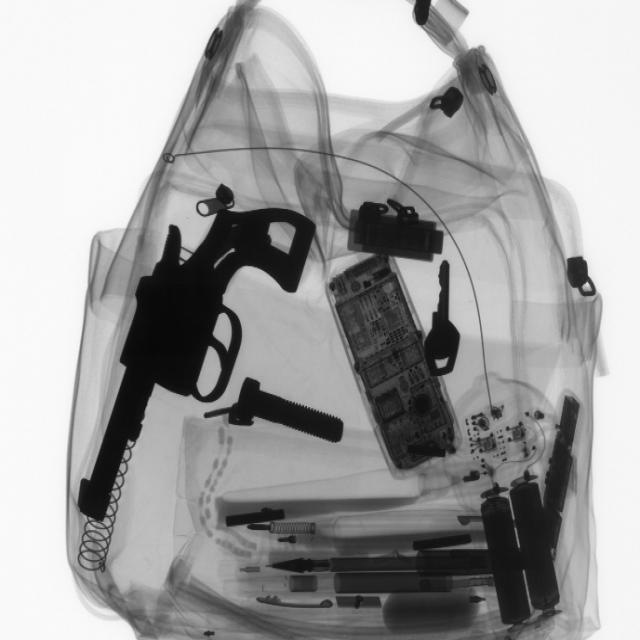GUN: (72, 205, 324, 514)
